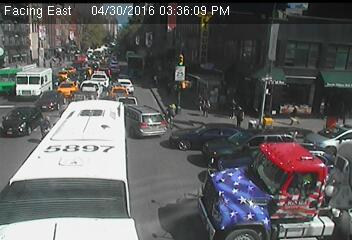neg: (288, 174, 310, 205), (7, 105, 25, 129), (318, 104, 336, 128), (168, 63, 185, 86), (259, 112, 275, 133), (121, 97, 135, 116), (199, 59, 211, 76), (73, 68, 84, 82), (50, 56, 58, 68), (102, 58, 110, 68)
pos: (160, 102, 181, 130), (230, 102, 250, 129), (36, 113, 56, 140), (285, 101, 303, 126), (192, 94, 209, 117), (200, 93, 216, 115)
